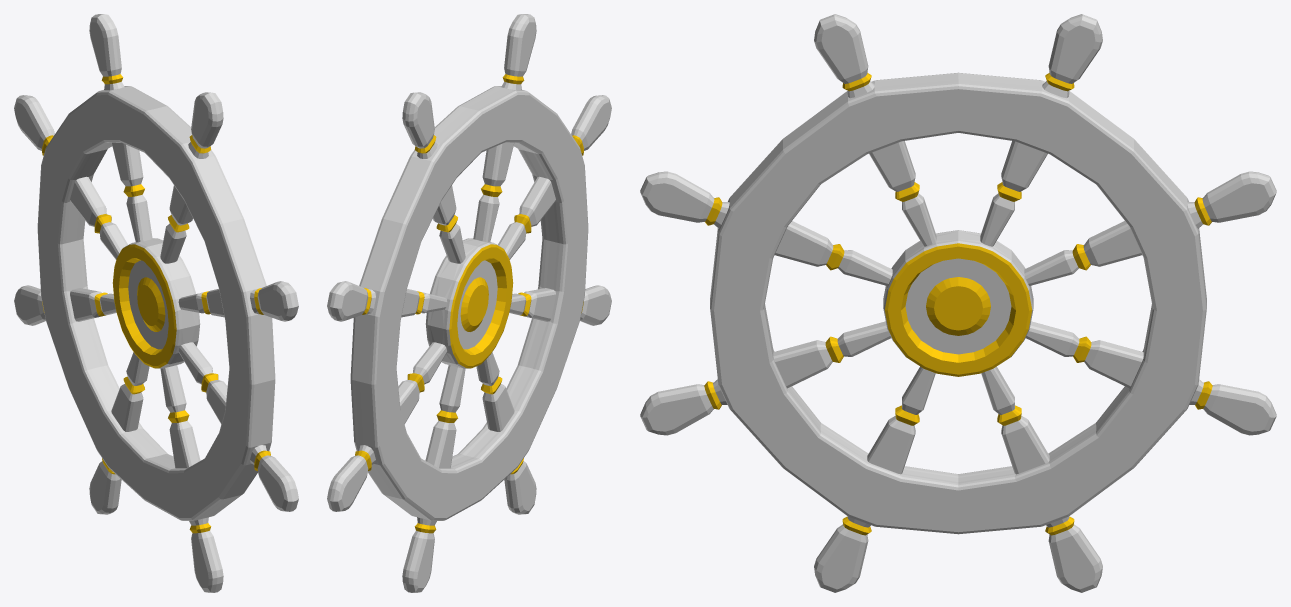
File: Gouvernail.fbx
The picture shows the model from 3 angles, left to right: view 1: azimuth 30°, elevation 25°; view 2: azimuth 150°, elevation 25°; view 3: azimuth 270°, elevation 25°; orthographic projection. The views are drawn at different scales.
Visible parts, largest first — view 1: Gouvernail; view 2: Gouvernail; view 3: Gouvernail.
Boxes of the visible parts, x1,y1,x2,y2 form: Gouvernail: (14, 14, 298, 592); Gouvernail: (327, 14, 611, 592); Gouvernail: (640, 14, 1276, 592).
Size of the model in its own units: 45.17 by 848 by 848.
